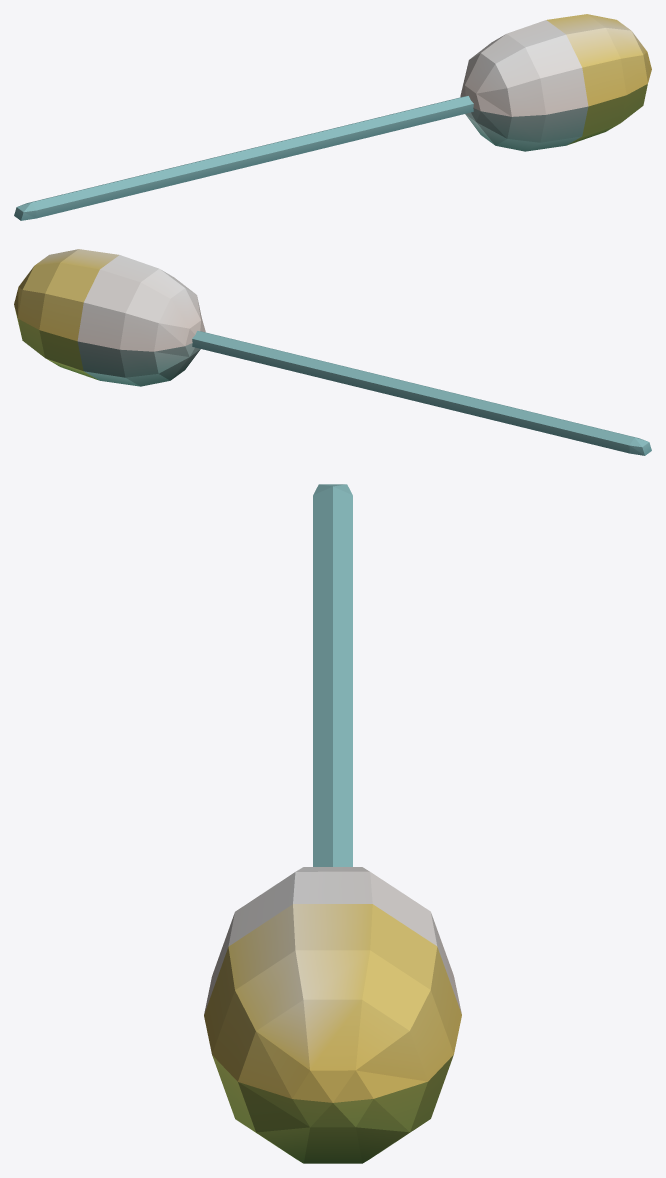
The model's file is BuoyLine_0.glb.
3 views of the same model, one above another, from view 1: azimuth 30°, elevation 25°; view 2: azimuth 150°, elevation 25°; view 3: azimuth 270°, elevation 25° (orthographic). The views are drawn at different scales.
Parts seen in each view (by area): view 1: BuoyLine; view 2: BuoyLine; view 3: BuoyLine.
Boxes of the visible parts, bbox=[...] form: BuoyLine: bbox=[14, 14, 651, 220]; BuoyLine: bbox=[14, 249, 651, 455]; BuoyLine: bbox=[204, 484, 461, 1163].
Size of the model in its own units: 1.53 by 0.2589 by 0.2721.
